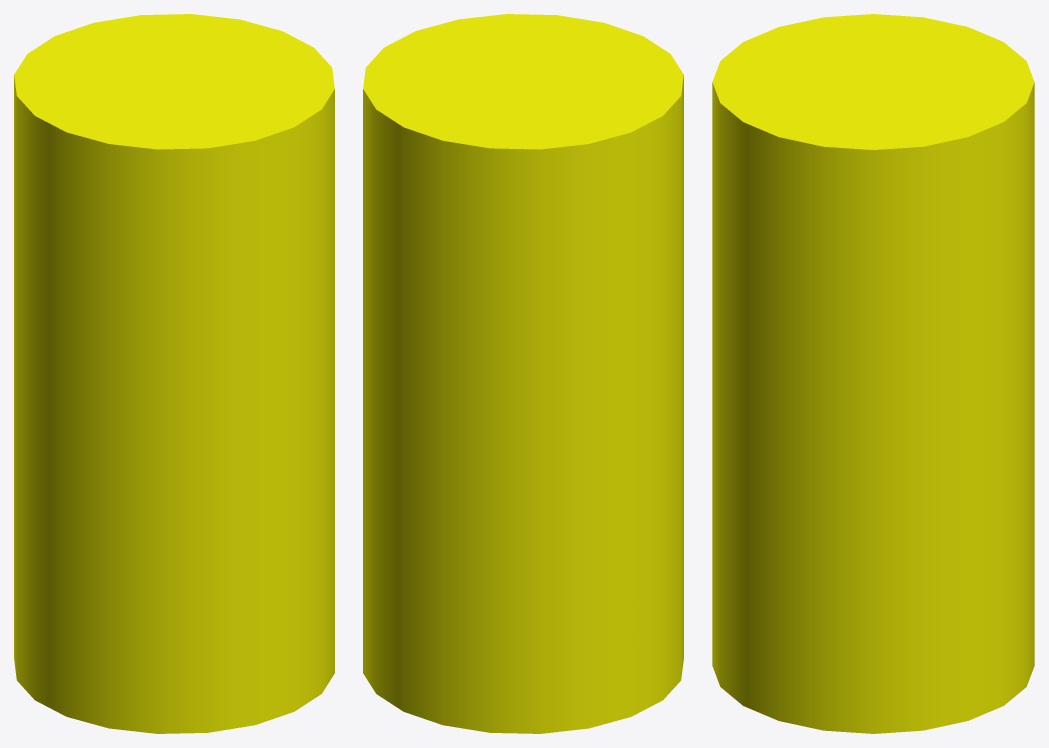
File: Elevator_Reference.fbx
The picture shows the model from 3 angles, left to right: view 1: azimuth 30°, elevation 25°; view 2: azimuth 150°, elevation 25°; view 3: azimuth 270°, elevation 25°; orthographic projection.
Visible parts, largest first — view 1: Elevator_Reference; view 2: Elevator_Reference; view 3: Elevator_Reference.
Part boxes in pixels (x1,y1,x2,y2): Elevator_Reference: [14, 14, 334, 733]; Elevator_Reference: [363, 14, 683, 733]; Elevator_Reference: [712, 14, 1034, 733].
Size of the model in its own units: 100 by 200 by 100.
